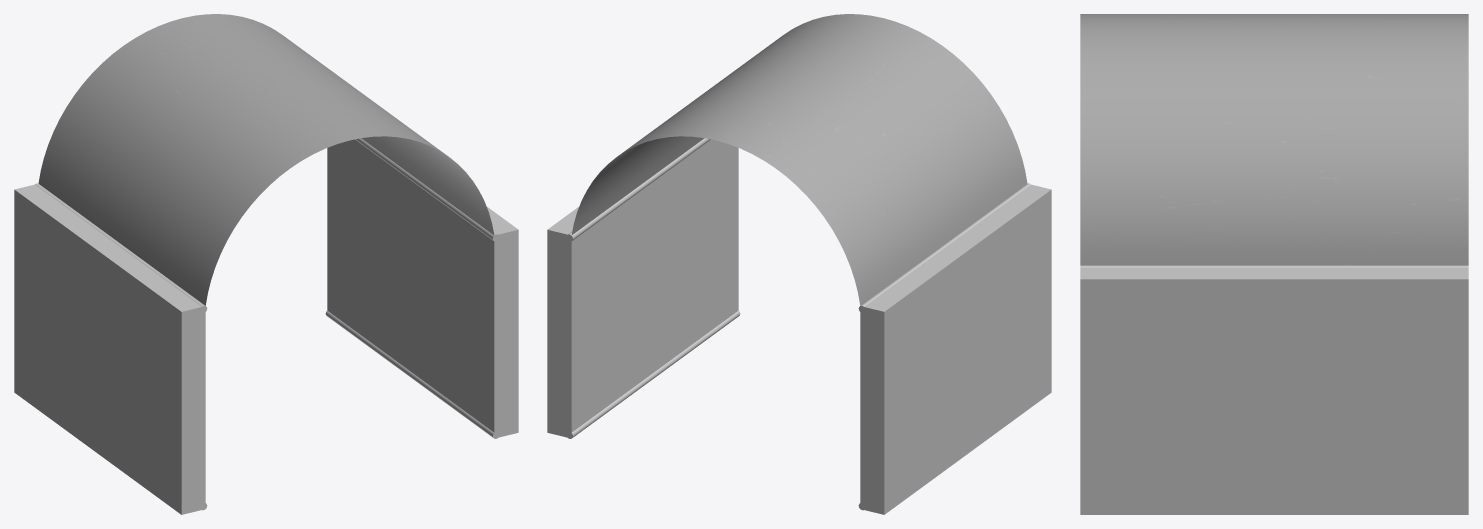
Rendered from hallway_final.FBX.
The picture shows the model from 3 angles, left to right: view 1: azimuth 30°, elevation 25°; view 2: azimuth 150°, elevation 25°; view 3: azimuth 270°, elevation 25°; orthographic projection. The views are drawn at different scales.
Parts seen in each view (by area): view 1: Arc, WallLeft, WallRight, Cylinder004, Cylinder003, Cylinder002; view 2: Arc, WallLeft, WallRight, Cylinder004, Cylinder003, Cylinder002; view 3: Arc, WallRight, Cylinder003.
Part boxes in pixels (bbox=[...]): Arc: bbox=[38, 14, 494, 305]; WallLeft: bbox=[14, 184, 205, 514]; WallRight: bbox=[327, 139, 518, 438]; Cylinder004: bbox=[325, 310, 499, 438]; Cylinder003: bbox=[355, 138, 499, 241]; Cylinder002: bbox=[35, 183, 207, 312]; Arc: bbox=[571, 14, 1027, 305]; WallLeft: bbox=[860, 184, 1051, 514]; WallRight: bbox=[547, 139, 738, 437]; Cylinder004: bbox=[566, 310, 740, 438]; Cylinder003: bbox=[566, 138, 710, 241]; Cylinder002: bbox=[858, 183, 1030, 312]; Arc: bbox=[1080, 14, 1468, 265]; WallRight: bbox=[1080, 267, 1468, 514]; Cylinder003: bbox=[1080, 265, 1468, 267].
Size of the model in its own units: 349 by 331 by 300.
